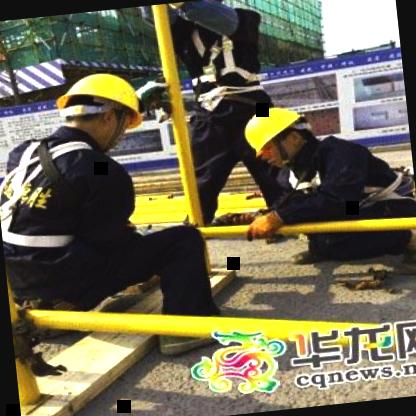helmet: (48, 63, 154, 150), (234, 95, 324, 176), (173, 0, 234, 23)
